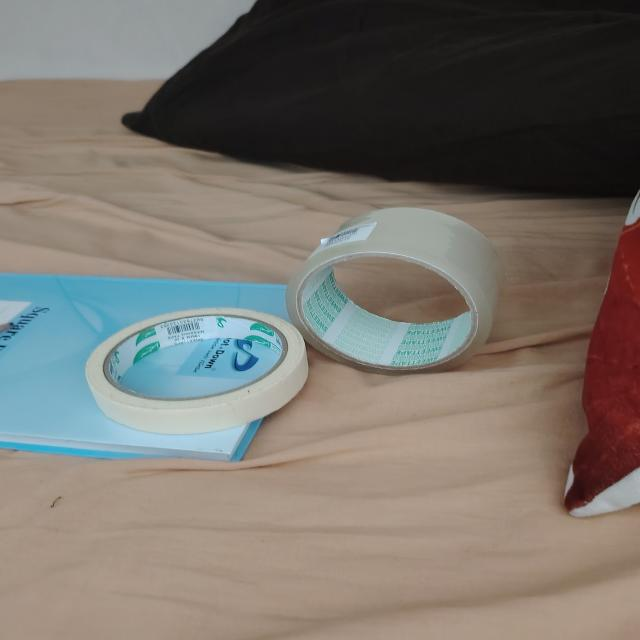tape: (286, 207, 500, 374), (86, 308, 308, 436)
